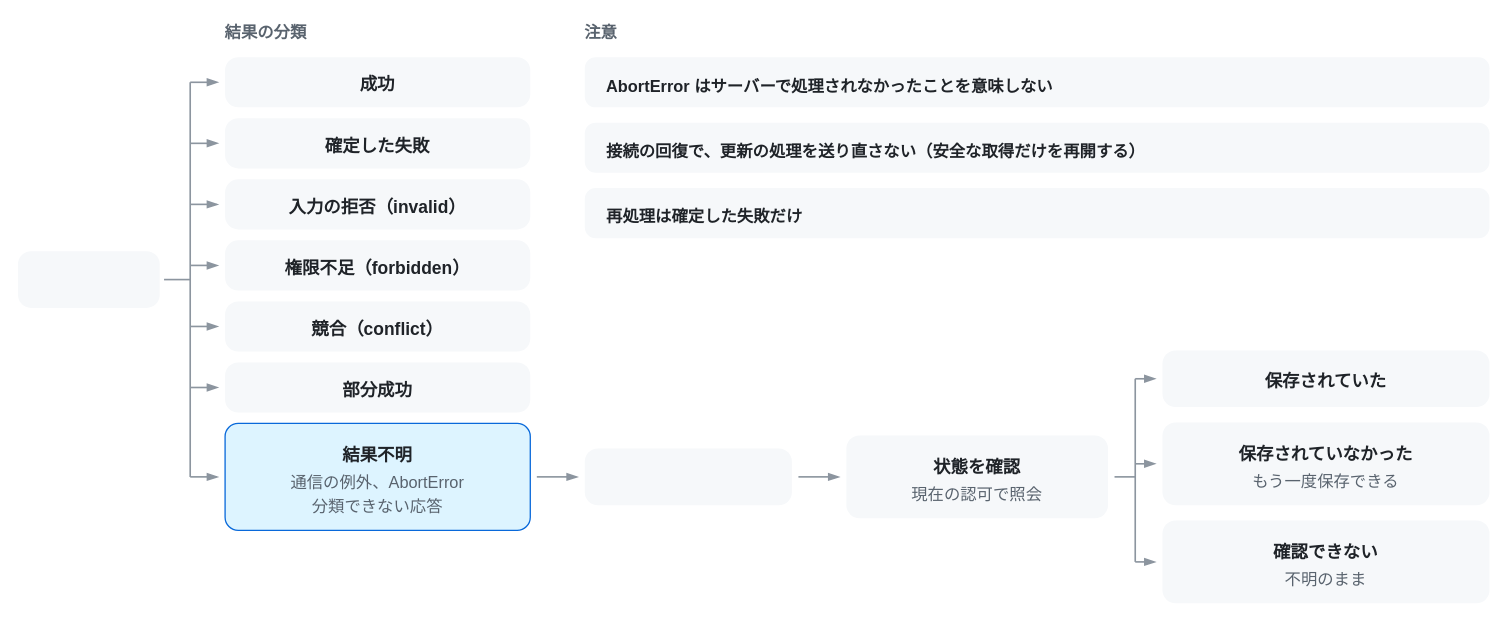
The diagram is 1507 pixels wide and 621 high, and some of its shapes have lost their labels. Each missing label, with the centre of its shape:
"自動で再実行しない" goes at [687,476].
"要求を送る" goes at [88,279].
